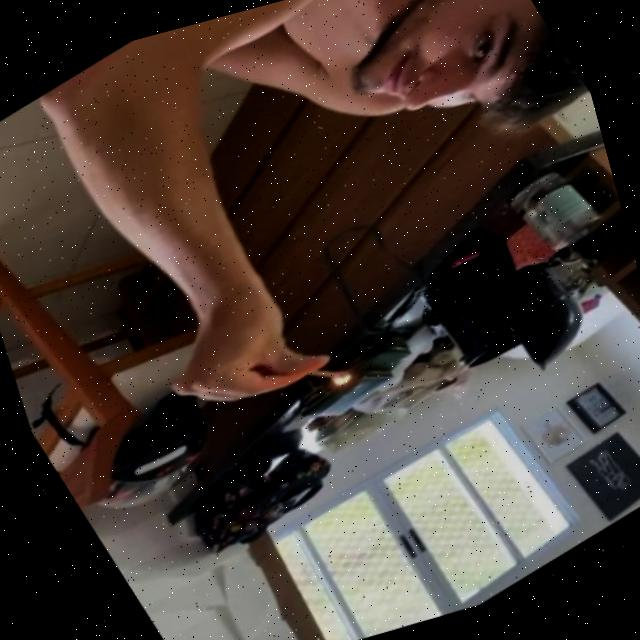fire: (320, 366, 354, 394)
